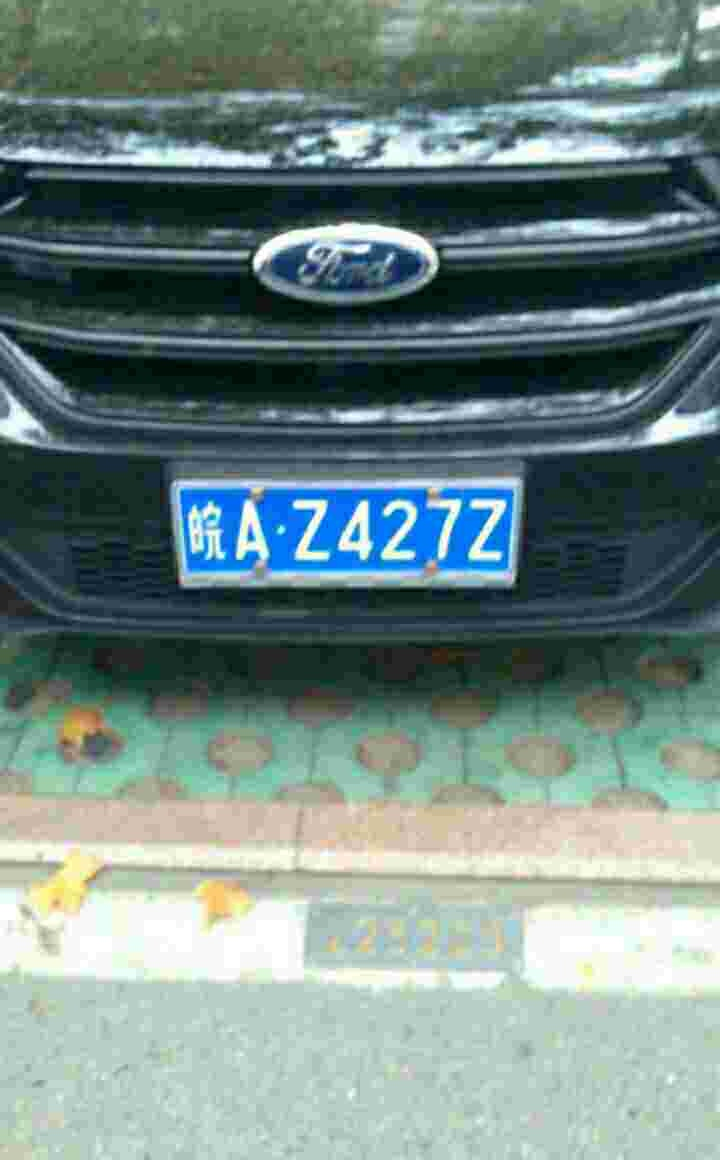license_plate: (171, 480, 525, 576)
